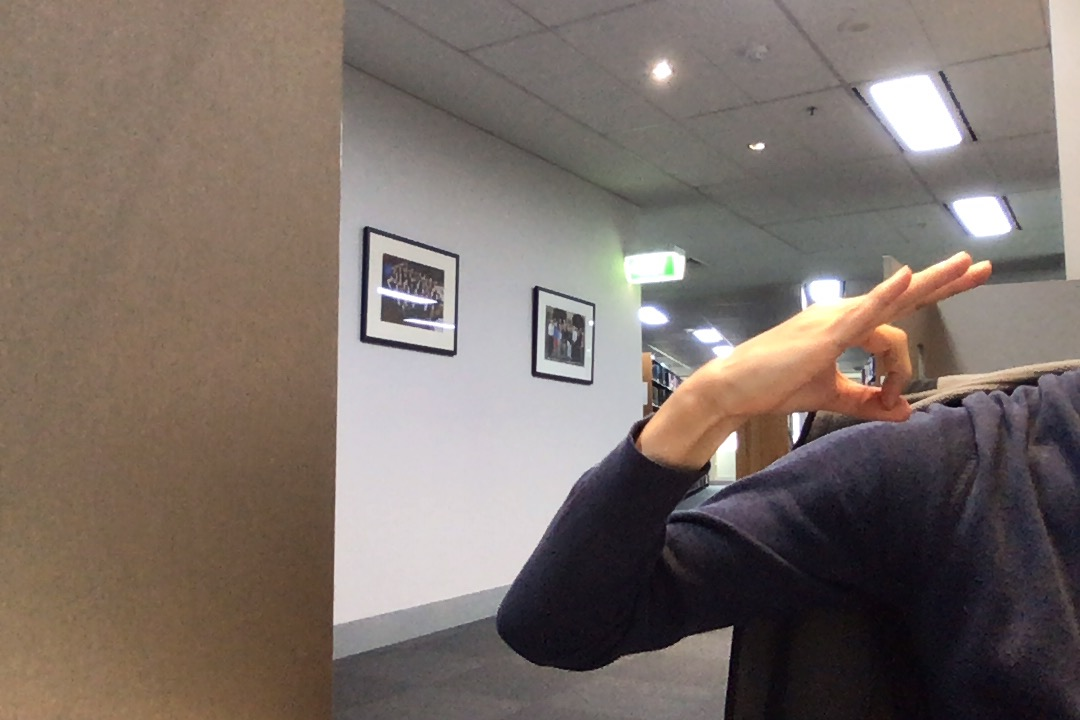oksign: (696, 244, 998, 435)
